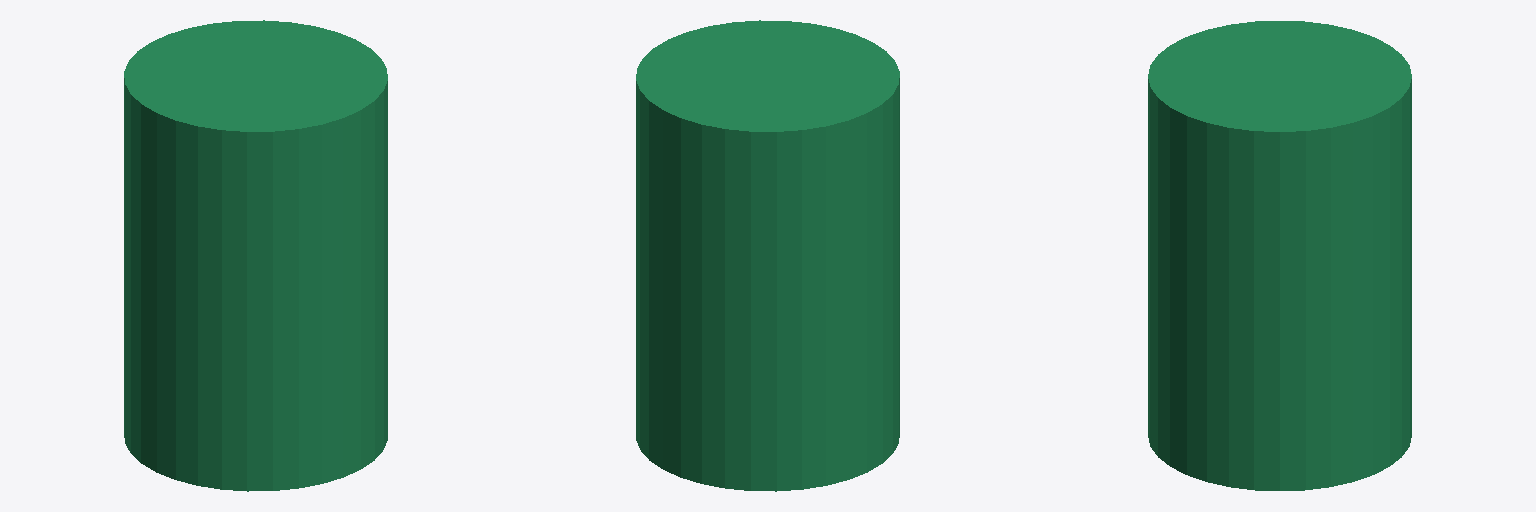
The robot description file, URDF, robot "green_can":
<robot name="green_can">

` <link name="can">
    <inertial>
      <mass value="0.1"/>
      <inertia ixx="1.0" ixy="0.0" ixz="0.0" iyy="1.0" iyz="0.0" izz="1.0"/>
    </inertial>
    <visual>
      <origin rpy="0 0 0" xyz="0 0 0"/>
      <geometry>
        <cylinder length="0.15" radius="0.05"/>
      </geometry>
      <material name = "green">
        <color rgba="0.2 0.6 0.4 1"/>
      </material>
    </visual>
    <collision>
      <origin rpy="0 0 0" xyz="0 0 0"/>
      <geometry>
        <cylinder length="0.15" radius="0.05"/>
      </geometry>
    </collision>
  </link>

</robot>

--- Render facts (derived) ---
The picture shows the robot from 3 angles, left to right: view 1: azimuth 30°, elevation 25°; view 2: azimuth 150°, elevation 25°; view 3: azimuth 270°, elevation 25°; orthographic projection.
Model green_can with 1 links and 0 joints (none), rooted at can, posed all joints at 0.
Links seen in each view (by area): view 1: can; view 2: can; view 3: can.
Link boxes in pixels (bbox=[...]): can: bbox=[124, 20, 387, 491]; can: bbox=[636, 20, 899, 491]; can: bbox=[1148, 21, 1411, 490].
Bounding box of the posed robot: 0.1 × 0.1 × 0.15 m (x, y, z).
Geometry: primitives only (box / cylinder / sphere), no mesh files.